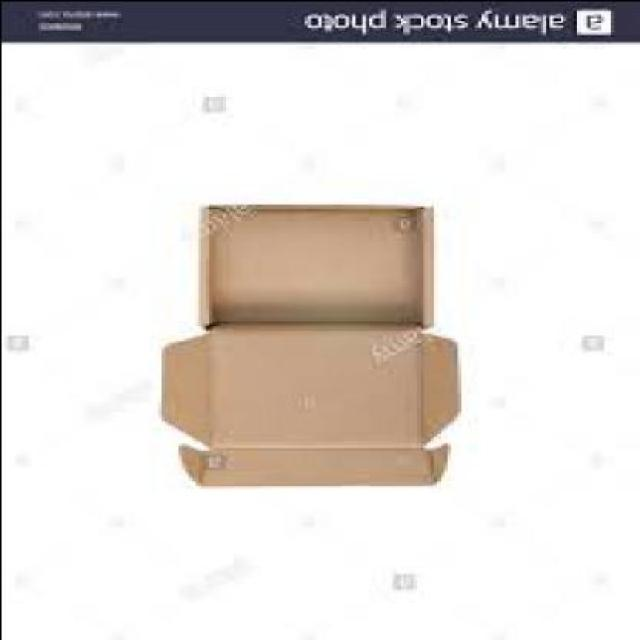CARDBOARD: (160, 205, 463, 487)
